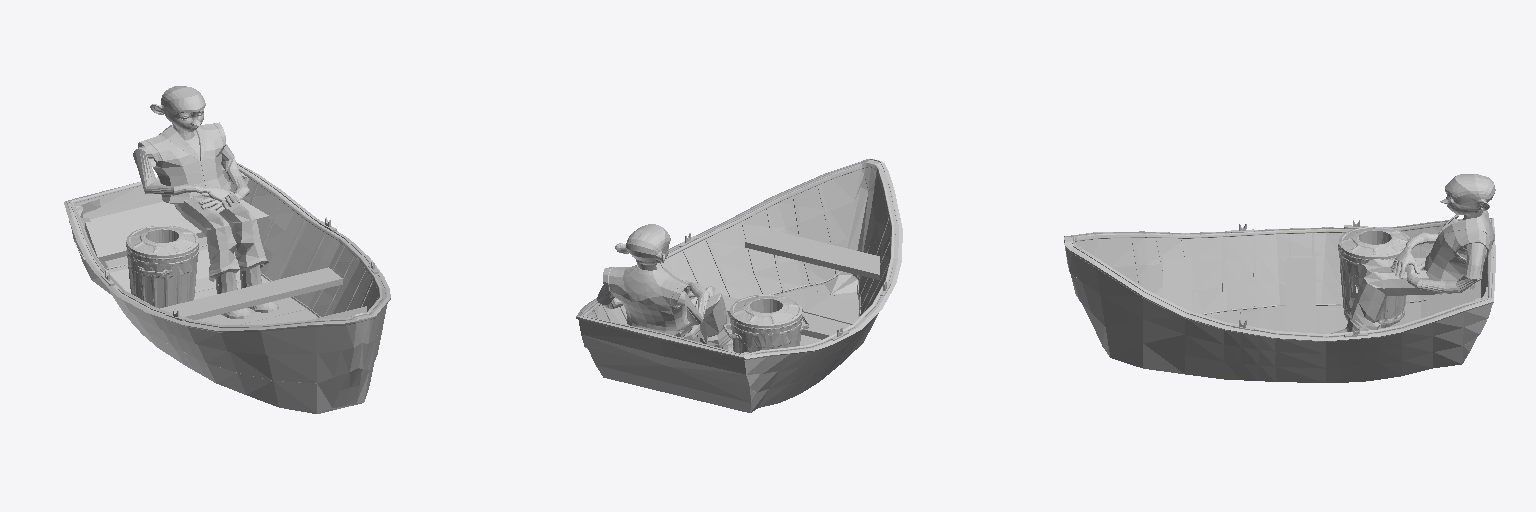
File: boatplayer.obj
The picture shows the model from 3 angles: view 1: azimuth 30°, elevation 25°; view 2: azimuth 150°, elevation 25°; view 3: azimuth 270°, elevation 25°; orthographic projection.
Visible parts, largest first — view 1: 1, boatrenk, yelekbot, cop, deri, pantolon, 7, 6, 4; view 2: 1, boatrenk, yelekbot, cop, 8, deri, pantolon, 4, 7; view 3: 1, boatrenk, deri, cop, pantolon, yelekbot, 7, 8, 4, 6.
Boxes of the visible parts, <box> form: 1: <box>64,162,390,413</box>; boatrenk: <box>71,178,382,413</box>; yelekbot: <box>138,122,278,318</box>; cop: <box>126,226,198,308</box>; deri: <box>133,86,249,212</box>; pantolon: <box>175,197,268,281</box>; 7: <box>160,267,342,319</box>; 6: <box>85,200,268,261</box>; 4: <box>87,183,378,316</box>; 1: <box>576,159,902,412</box>; boatrenk: <box>581,167,890,412</box>; yelekbot: <box>603,265,733,351</box>; cop: <box>723,295,808,353</box>; 8: <box>745,231,879,279</box>; deri: <box>597,224,709,324</box>; pantolon: <box>674,280,731,347</box>; 4: <box>594,184,889,324</box>; 7: <box>722,295,848,339</box>; 1: <box>1064,218,1495,382</box>; boatrenk: <box>1065,226,1486,368</box>; deri: <box>1391,174,1495,293</box>; cop: <box>1338,227,1409,327</box>; pantolon: <box>1349,258,1442,330</box>; yelekbot: <box>1331,210,1494,333</box>; 7: <box>1286,257,1315,332</box>; 8: <box>1163,257,1191,310</box>; 4: <box>1132,229,1421,311</box>; 6: <box>1426,248,1480,316</box>.
Size of the model in its own units: 36.49 by 27.02 by 58.48.